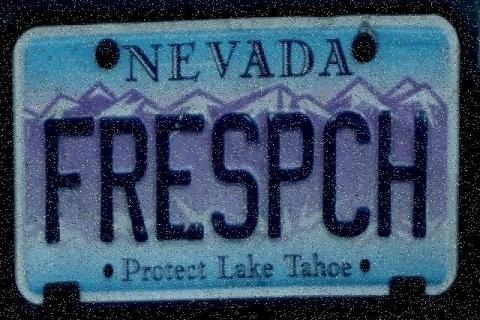LicensePlate: (8, 16, 474, 310)
